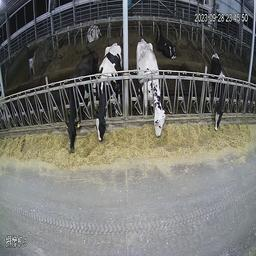cow: (135, 38, 166, 141), (64, 47, 94, 151), (93, 41, 123, 143), (208, 50, 230, 135), (155, 20, 179, 60), (85, 21, 101, 41)
